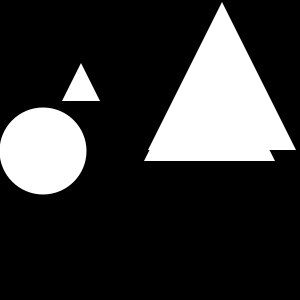rectangle: (0, 107, 86, 194)
triangle: (148, 2, 296, 150), (144, 30, 275, 161), (62, 63, 100, 101)
